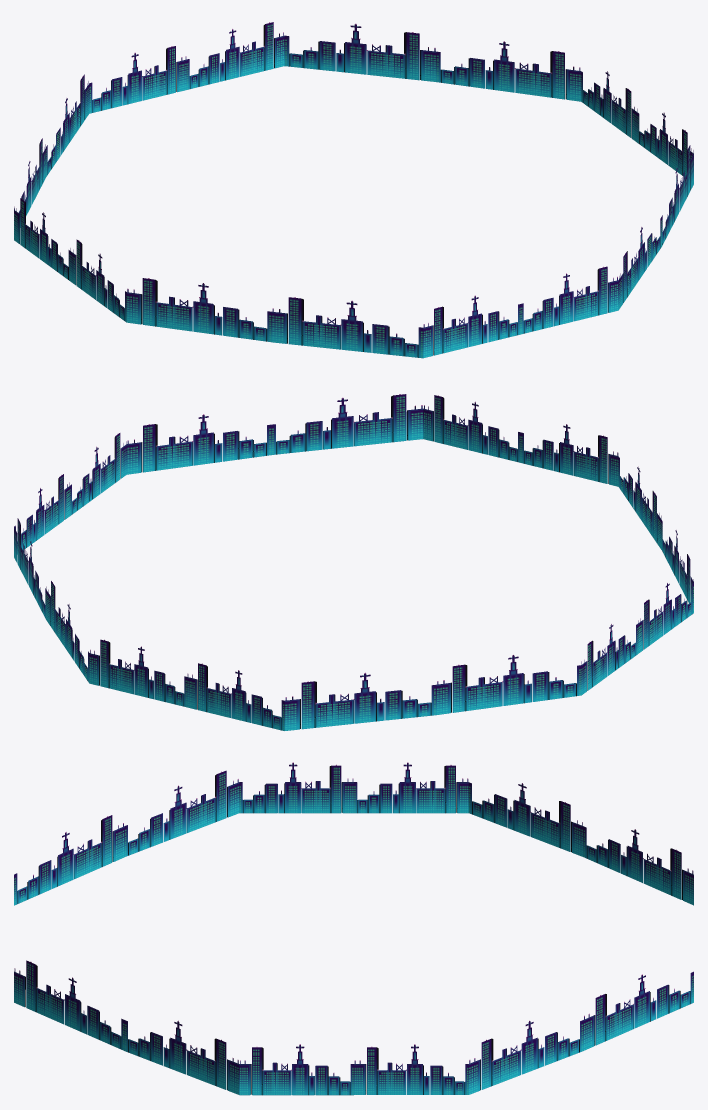
File: backBuild.obj
3 views of the same model, one above another, from view 1: azimuth 30°, elevation 25°; view 2: azimuth 150°, elevation 25°; view 3: azimuth 270°, elevation 25° (orthographic).
Visible parts, largest first — view 1: Cube; view 2: Cube; view 3: Cube.
Boxes of the visible parts, x1,y1,x2,y2 form: Cube: [14, 22, 693, 358]; Cube: [14, 394, 693, 730]; Cube: [14, 762, 693, 1095].
Bounding box in the file's own units: 10.15 × 0.8942 × 10.35.
Materials: 1 (1 with a texture image).
